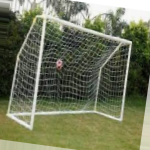goals: (4, 13, 133, 131)
